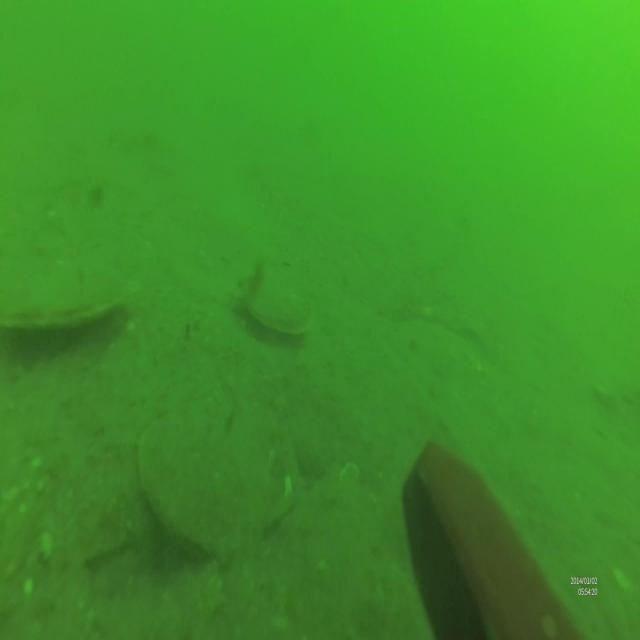scallop: (138, 406, 301, 562), (0, 260, 140, 342), (244, 287, 311, 338)
